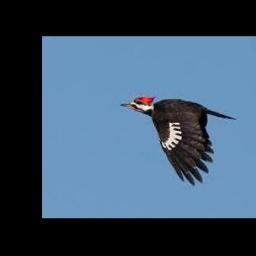Woodpecker: (122, 96, 237, 185)
